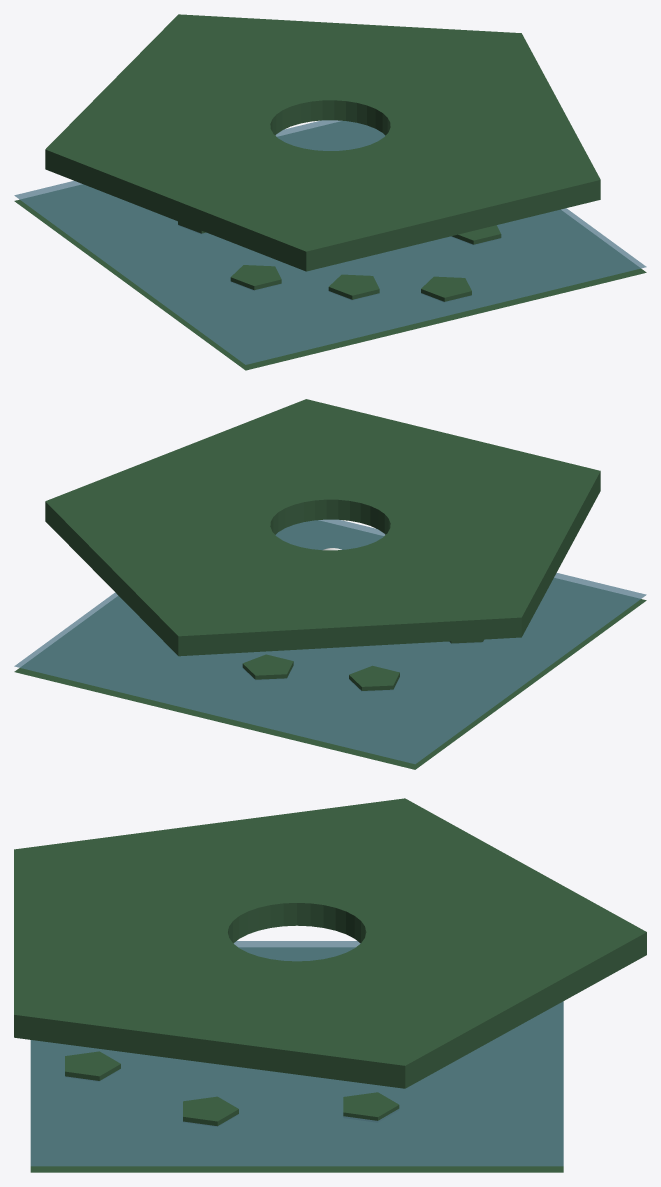
3 renders of one model, top to bottom at view 1: azimuth 30°, elevation 25°; view 2: azimuth 150°, elevation 25°; view 3: azimuth 270°, elevation 25°, orthographic. The views are drawn at different scales.
Parts seen in each view (by area): view 1: Cylinder.008, ground, water, Cylinder.007, Cylinder.001, Cylinder, Cylinder.003; view 2: Cylinder.008, ground, water, Cylinder.006, Cylinder.005; view 3: Cylinder.008, ground, water, Cylinder.004, Cylinder, Cylinder.003.
Boxes of the visible parts, x1,y1,x2,y2 form: Cylinder.008: (45, 14, 600, 271); ground: (14, 121, 646, 370); water: (14, 120, 646, 364); Cylinder.007: (230, 265, 281, 290); Cylinder.001: (328, 274, 379, 300); Cylinder: (421, 276, 471, 302); Cylinder.003: (451, 225, 501, 244); Cylinder.008: (45, 399, 600, 656); ground: (14, 520, 646, 769); water: (14, 519, 646, 764); Cylinder.006: (349, 665, 399, 691); Cylinder.005: (242, 654, 293, 679); Cylinder.008: (14, 798, 646, 1088); ground: (30, 947, 563, 1172); water: (30, 941, 563, 1166); Cylinder.004: (343, 1092, 399, 1122); Cylinder: (65, 1051, 120, 1081); Cylinder.003: (183, 1096, 238, 1126).
Size of the model in its own units: 29.69 by 6.62 by 29.69.
